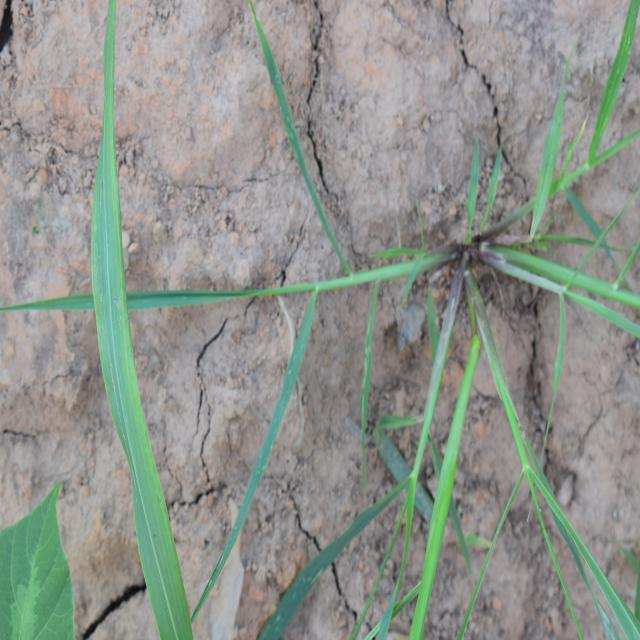green_foxtail: (339, 363, 603, 605)
